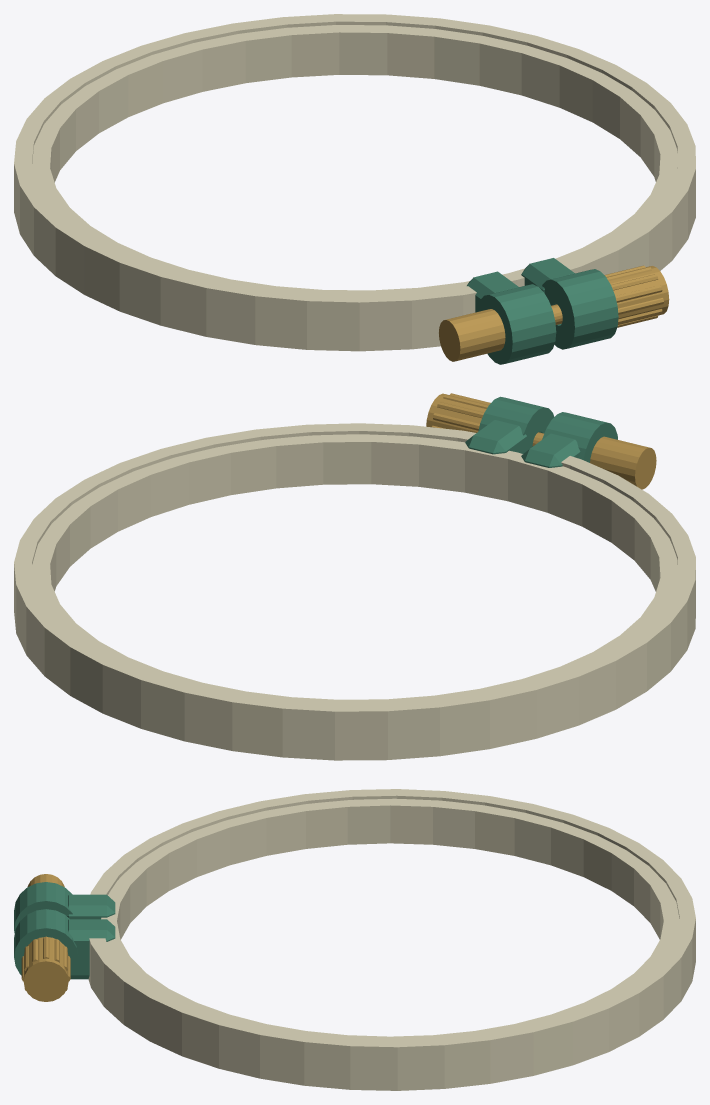
The model's file is full.glb.
3 views of the same model, one above another, from view 1: azimuth 30°, elevation 25°; view 2: azimuth 150°, elevation 25°; view 3: azimuth 270°, elevation 25° (orthographic). The views are drawn at different scales.
Parts seen in each view (by area): view 1: Split outer band, Continuous inner band, Clamp screw sleeve 1, Clamp screw sleeve -1, Captive screw nut, Ribbed adjustment knob, Clamp curved mounting foot 1, Clamp curved mounting foot -1; view 2: Split outer band, Continuous inner band, Captive screw nut, Clamp screw sleeve 1, Clamp screw sleeve -1, Clamp curved mounting foot 1, Clamp curved mounting foot -1, Ribbed adjustment knob; view 3: Split outer band, Continuous inner band, Ribbed adjustment knob, Clamp screw sleeve 1, Clamp screw sleeve -1, Clamp curved mounting foot 1, Clamp curved mounting foot -1.
Boxes of the visible parts, left/top/right/bottom form: Split outer band: left=14, top=14, right=695, bottom=351; Continuous inner band: left=32, top=25, right=677, bottom=294; Clamp screw sleeve 1: left=542, top=269, right=618, bottom=349; Clamp screw sleeve -1: left=477, top=284, right=556, bottom=364; Captive screw nut: left=439, top=309, right=505, bottom=361; Ribbed adjustment knob: left=606, top=266, right=669, bottom=324; Clamp curved mounting foot 1: left=521, top=258, right=574, bottom=293; Clamp curved mounting foot -1: left=467, top=271, right=518, bottom=312; Split outer band: left=14, top=423, right=695, bottom=760; Continuous inner band: left=32, top=434, right=677, bottom=703; Captive screw nut: left=590, top=436, right=656, bottom=489; Clamp screw sleeve 1: left=478, top=396, right=554, bottom=450; Clamp screw sleeve -1: left=542, top=412, right=617, bottom=462; Clamp curved mounting foot 1: left=465, top=420, right=526, bottom=454; Clamp curved mounting foot -1: left=521, top=433, right=580, bottom=467; Ribbed adjustment knob: left=426, top=393, right=488, bottom=432; Split outer band: left=88, top=789, right=695, bottom=1090; Continuous inner band: left=101, top=798, right=679, bottom=1040; Ribbed adjustment knob: left=23, top=937, right=68, bottom=1001; Clamp screw sleeve 1: left=14, top=909, right=78, bottom=975; Clamp screw sleeve -1: left=14, top=882, right=72, bottom=932; Clamp curved mounting foot 1: left=68, top=919, right=115, bottom=979; Clamp curved mounting foot -1: left=67, top=894, right=115, bottom=919.
Bounding box in the file's own units: 0.1899 × 0.02 × 0.212.
